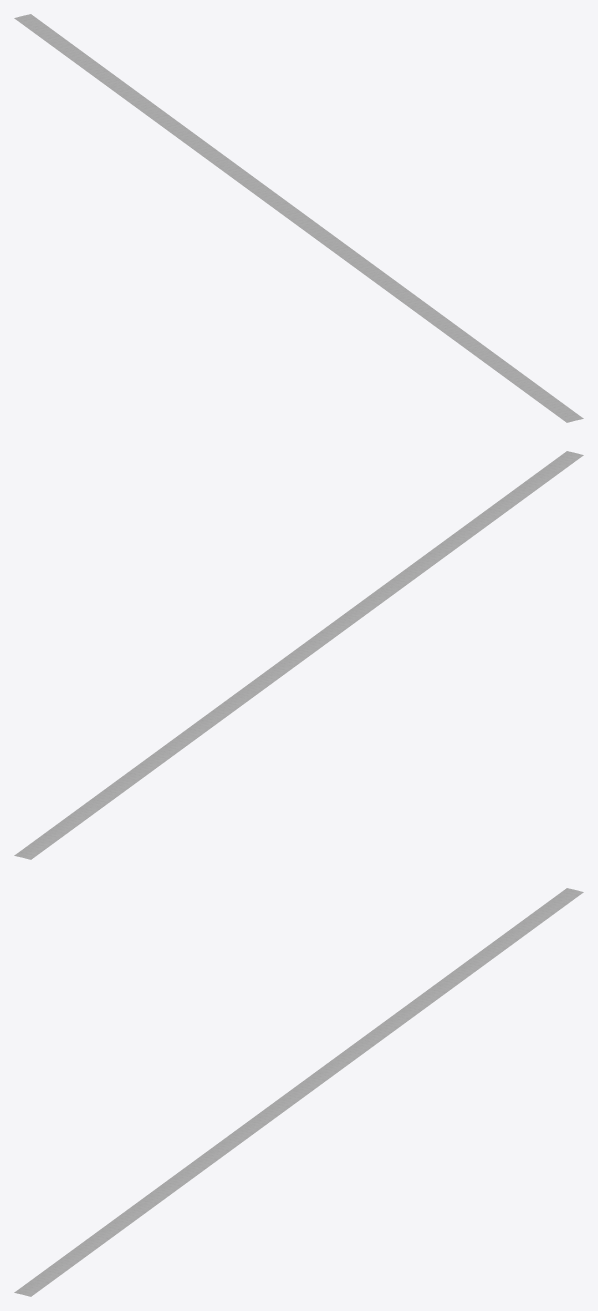
The model's file is SM_ENV_LKNVLD_Ground_road_BG.FBX.
3 views of the same model, one above another, from view 1: azimuth 30°, elevation 25°; view 2: azimuth 150°, elevation 25°; view 3: azimuth 330°, elevation 25° (orthographic).
Visible parts, largest first — view 1: SM_ENV_LKNVLD_Ground_road_BG; view 2: SM_ENV_LKNVLD_Ground_road_BG; view 3: SM_ENV_LKNVLD_Ground_road_BG.
Boxes of the visible parts, <box> form: SM_ENV_LKNVLD_Ground_road_BG: <box>14,14,583,422</box>; SM_ENV_LKNVLD_Ground_road_BG: <box>14,451,583,859</box>; SM_ENV_LKNVLD_Ground_road_BG: <box>14,888,583,1296</box>.
Bounding box in the file's own units: 837 × 7.42 × 47110.
